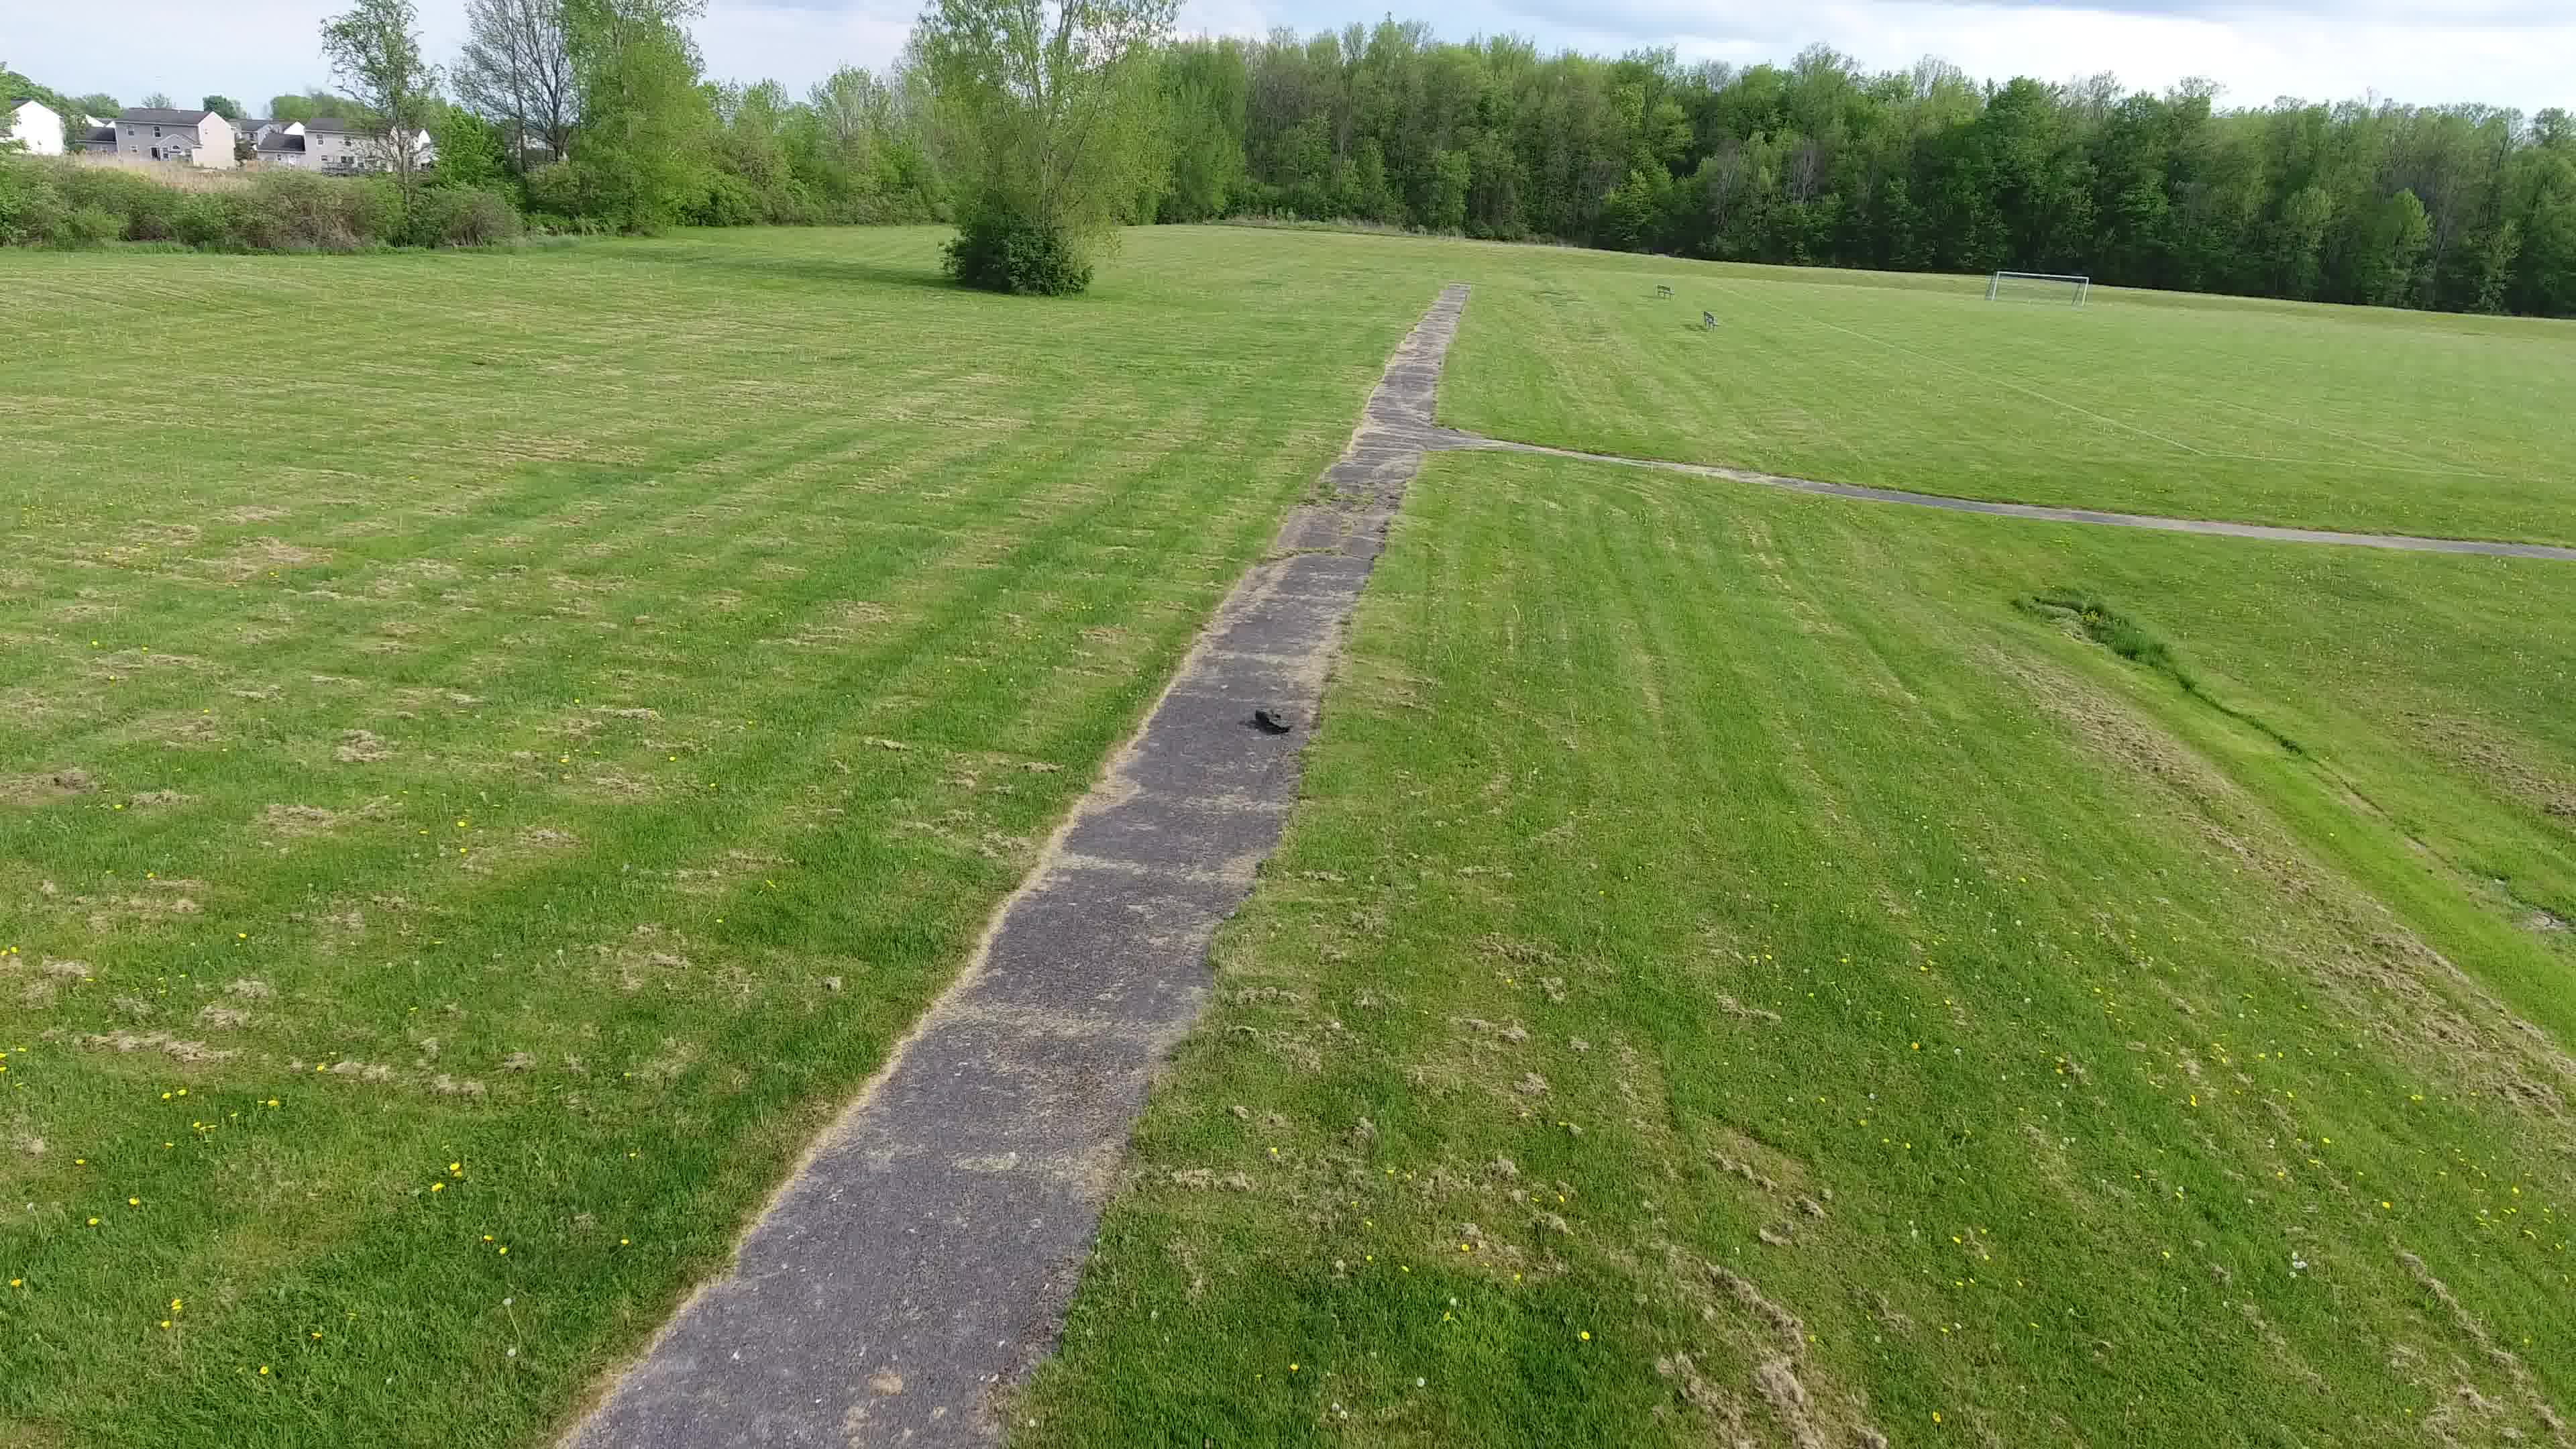transporter9: (1253, 706, 1293, 734)
